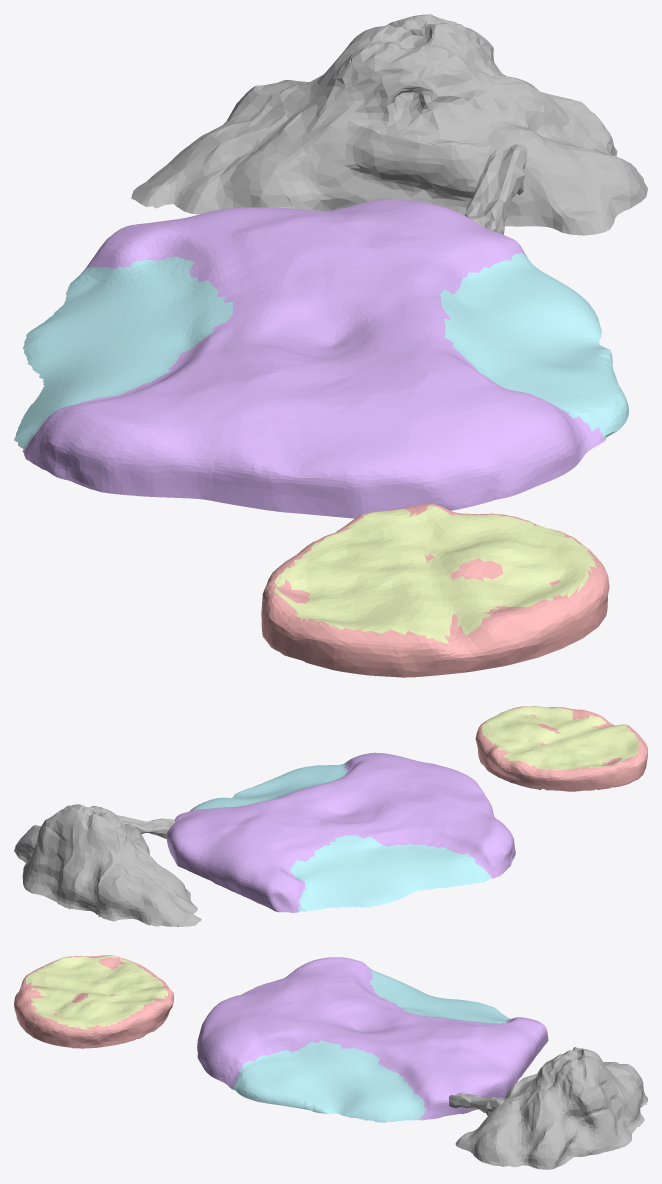
File: Landscape.fbx
The picture shows the model from 3 angles, top to bottom: view 1: azimuth 30°, elevation 25°; view 2: azimuth 150°, elevation 25°; view 3: azimuth 270°, elevation 25°; orthographic projection. The views are drawn at different scales.
Parts seen in each view (by area): view 1: IslandMiddle, IslandMountain, IslandBeginning, StoneBridge; view 2: IslandMiddle, IslandMountain, IslandBeginning, StoneBridge; view 3: IslandMiddle, IslandMountain, IslandBeginning, StoneBridge.
Boxes of the visible parts, left/top/right/bottom form: IslandMiddle: left=14, top=199, right=628, bottom=518; IslandMountain: left=131, top=14, right=647, bottom=235; IslandBeginning: left=261, top=503, right=609, bottom=677; StoneBridge: left=464, top=144, right=527, bottom=234; IslandMiddle: left=166, top=752, right=515, bottom=912; IslandMountain: left=14, top=804, right=201, bottom=926; IslandBeginning: left=475, top=706, right=647, bottom=791; StoneBridge: left=117, top=815, right=175, bottom=839; IslandMiddle: left=197, top=957, right=548, bottom=1122; IslandMountain: left=455, top=1047, right=647, bottom=1169; IslandBeginning: left=14, top=955, right=173, bottom=1048; StoneBridge: left=449, top=1092, right=505, bottom=1115.
Size of the model in its own units: 14532 by 2526 by 19874.
